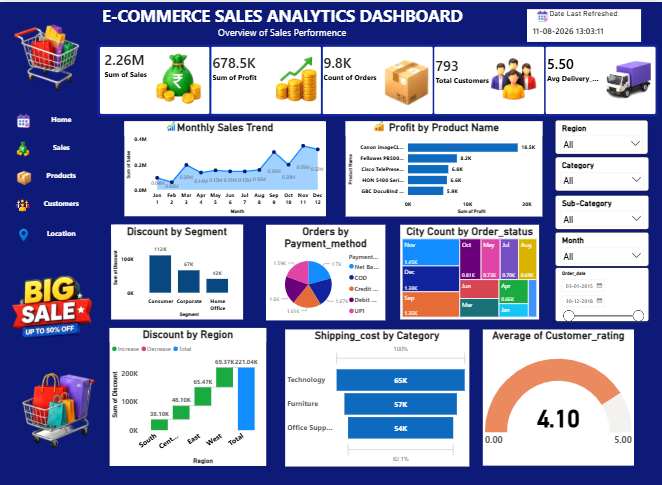

Layout of this report page (visuals, bound fields, positions):
{"tool":"powerbi","page":{"name":"Page 1","canvas":[1500,1100],"ordinal":0},"visuals":[{"type":"textbox","box":[0,0,1280,115],"z":0},{"type":"textbox","box":[93.6,248.3,94.8,39.9],"z":0,"group":"g1"},{"type":"slicer","fields":{"Values":["cleaned_ecommerce_project.Region"]},"box":[1255,265,210,77.4],"z":0,"group":"g7"},{"type":"image","box":[26,16,162,216],"z":1000},{"type":"textbox","box":[93.6,312.1,94.8,39.9],"z":1000,"group":"g5"},{"type":"slicer","fields":{"Values":["cleaned_ecommerce_project.Category"]},"box":[1255,349.7,212.2,77.4],"z":1000,"group":"g7"},{"type":"slicer","fields":{"Values":["cleaned_ecommerce_project.Sub-Category"]},"box":[1255,434.3,212.2,77.4],"z":2000,"group":"g7"},{"type":"image","box":[35,812.5,182.5,237.5],"z":2000},{"type":"textbox","box":[93.6,375.9,94.8,39.9],"z":3000,"group":"g2"},{"type":"slicer","fields":{"Values":["cleaned_ecommerce_project.Month"]},"box":[1255,519,212.2,77.4],"z":3000,"group":"g7"},{"type":"image","box":[24,544,186,294],"z":3000},{"type":"cardVisual","title":"TOTAL SALES","fields":{"Data":["Sum(cleaned_ecommerce_project.Sales)","Sum(cleaned_ecommerce_project.Profit)","CountNonNull(cleaned_ecommerce_project.Order ID)","Count(cleaned_ecommerce_project.Customer ID)","Avg(cleaned_ecommerce_project.Delivery_days)"]},"box":[217.5,90,1282.5,175],"z":4000},{"type":"group","id":"g1","title":"Group 1","box":[36.7,248.3,151.7,39.9],"z":4000,"group":"g6"},{"type":"textbox","box":[93.6,439.7,94.8,39.9],"z":4000,"group":"g3"},{"type":"cardVisual","title":"Date Last Refreshed:","fields":{"Data":["Query1.Last Refresh"]},"box":[1192.2,15.6,257.8,73.3],"z":5000},{"type":"image","box":[36.7,248.3,37.9,39.9],"z":5000,"group":"g1"},{"type":"group","id":"g2","title":"Group 3","box":[36.7,375.9,151.7,40.2],"z":5000,"group":"g6"},{"type":"textbox","box":[93.6,503.4,94.8,39.9],"z":5000,"group":"g4"},{"type":"image","box":[1200,15.6,55.6,32.2],"z":6000},{"type":"image","box":[36.7,312.3,37.9,39.9],"z":6000,"group":"g5"},{"type":"group","id":"g3","title":"Group 4","box":[36.7,439.7,151.7,40.4],"z":6000,"group":"g6"},{"type":"stackedAreaChart","title":"Monthly Sales Trend","fields":{"Category":["cleaned_ecommerce_project.Month Number","cleaned_ecommerce_project.Month"],"Y":["Sum(cleaned_ecommerce_project.Sales)"]},"box":[284.5,270,455.5,214.5],"z":7000},{"type":"image","box":[36.7,376.2,37.9,39.9],"z":7000,"group":"g2"},{"type":"group","id":"g4","title":"Group 5","box":[36.7,503.4,151.7,40.5],"z":7000,"group":"g6"},{"type":"image","box":[360,270,60,26.2],"z":8000},{"type":"image","box":[36.7,440.2,37.9,39.9],"z":8000,"group":"g3"},{"type":"barChart","title":"Profit by Product Name","fields":{"Category":["cleaned_ecommerce_project.Product Name"],"Y":["Sum(cleaned_ecommerce_project.Profit)"]},"box":[782.5,270,445,215],"z":9000},{"type":"group","id":"g5","title":"Group 2","box":[36.7,312.1,151.7,40],"z":9000,"group":"g6"},{"type":"image","box":[36.7,504.1,37.9,39.9],"z":9000,"group":"g4"},{"type":"image","box":[838.2,268.2,41.8,29.1],"z":10000},{"type":"columnChart","title":"Discount by Segment","fields":{"Category":["cleaned_ecommerce_project.Segment"],"Y":["Sum(cleaned_ecommerce_project.Discount)"]},"box":[254,504,298,214],"z":11000},{"type":"pieChart","title":"Orders by Payment_method","fields":{"Category":["cleaned_ecommerce_project.Payment_method"],"Y":["Count(cleaned_ecommerce_project.Order ID)"]},"box":[604,504,270,216],"z":12000},{"type":"treemap","title":"City Count by Order_status","fields":{"Group":["cleaned_ecommerce_project.Month"],"Values":["CountNonNull(cleaned_ecommerce_project.Order_status)"]},"box":[906,504,314,214],"z":13000},{"type":"group","id":"g6","title":"Group 7","box":[36.7,248.3,151.7,295],"z":14000},{"type":"slicer","fields":{"Values":["cleaned_ecommerce_project.Order_date"]},"box":[1255,597.9,212.2,121.8],"z":14000,"group":"g8"},{"type":"group","id":"g7","title":"Group 6","box":[1255,265,212.2,331.4],"z":15000,"group":"g8"},{"type":"waterfallChart","title":"Discount by Region","fields":{"Category":["cleaned_ecommerce_project.Region"],"Y":["Sum(cleaned_ecommerce_project.Discount)"]},"box":[250,738,354,312],"z":15000},{"type":"funnel","title":"Shipping_cost by Category","fields":{"Category":["cleaned_ecommerce_project.Category"],"Y":["Sum(cleaned_ecommerce_project.Shipping_cost)"]},"box":[648,740,416,310],"z":16000},{"type":"gauge","fields":{"Y":["Avg(cleaned_ecommerce_project.Customer_rating)"]},"box":[1094,740,342,308],"z":17000},{"type":"group","id":"g8","title":"Group 8","box":[1255,265,212.5,455],"z":18000}]}

Visuals, with their boxes in screenshot pixels (x1, y1, x2, y2), scaled from the page's 1500x1100 canvas onto the 662x485 screenshot:
textbox: [0, 0, 565, 51]
textbox: [41, 109, 83, 127]
slicer - cleaned_ecommerce_project.Region: [554, 117, 647, 151]
image: [11, 7, 83, 102]
textbox: [41, 138, 83, 155]
slicer - cleaned_ecommerce_project.Category: [554, 154, 648, 188]
slicer - cleaned_ecommerce_project.Sub-Category: [554, 191, 648, 226]
image: [15, 358, 96, 463]
textbox: [41, 166, 83, 183]
slicer - cleaned_ecommerce_project.Month: [554, 229, 648, 263]
image: [11, 240, 93, 369]
"TOTAL SALES" cardVisual: [96, 40, 661, 117]
"Group 1" group: [16, 109, 83, 127]
textbox: [41, 194, 83, 211]
"Date Last Refreshed:" cardVisual: [526, 7, 640, 39]
image: [16, 109, 33, 127]
"Group 3" group: [16, 166, 83, 183]
textbox: [41, 222, 83, 240]
image: [530, 7, 554, 21]
image: [16, 138, 33, 155]
"Group 4" group: [16, 194, 83, 212]
"Monthly Sales Trend" stackedAreaChart: [126, 119, 327, 214]
image: [16, 166, 33, 183]
"Group 5" group: [16, 222, 83, 240]
image: [159, 119, 185, 131]
image: [16, 194, 33, 212]
"Profit by Product Name" barChart: [345, 119, 542, 214]
"Group 2" group: [16, 138, 83, 155]
image: [16, 222, 33, 240]
image: [370, 118, 388, 131]
"Discount by Segment" columnChart: [112, 222, 244, 317]
"Orders by Payment_method" pieChart: [267, 222, 386, 317]
"City Count by Order_status" treemap: [400, 222, 538, 317]
"Group 7" group: [16, 109, 83, 240]
slicer - cleaned_ecommerce_project.Order_date: [554, 264, 648, 317]
"Group 6" group: [554, 117, 648, 263]
"Discount by Region" waterfallChart: [110, 325, 267, 463]
"Shipping_cost by Category" funnel: [286, 326, 470, 463]
gauge - Avg(cleaned_ecommerce_project.Customer_rating): [483, 326, 634, 462]
"Group 8" group: [554, 117, 648, 317]
